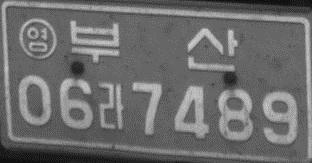0: (16, 72, 51, 127)
4: (172, 85, 209, 139)
6: (58, 77, 94, 131)
7: (131, 82, 163, 135)
8: (216, 87, 253, 141)
9: (261, 91, 298, 146)
라: (97, 82, 125, 128)
부산_D: (68, 19, 238, 71)
영: (17, 17, 56, 60)
